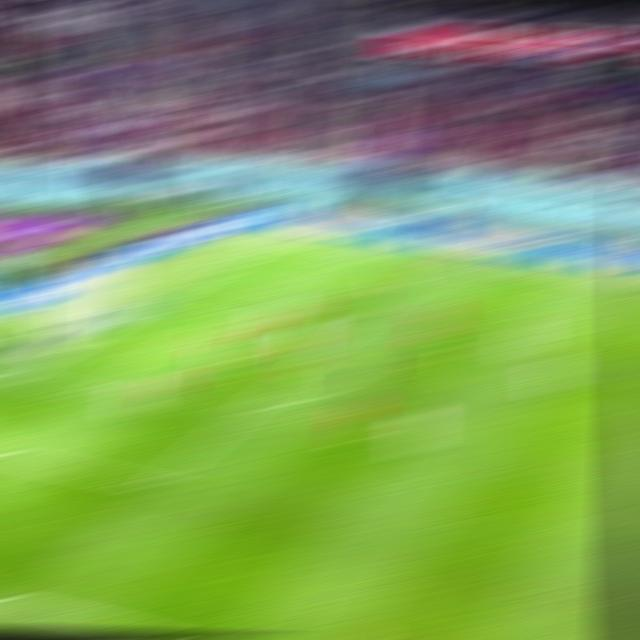bigarea_bottom_inner: (133, 473, 175, 493)
bigarea_top_inner: (367, 296, 405, 311)
bigarea_top_outter: (194, 270, 232, 282)
bottom_arc_area_intersection: (230, 399, 270, 416)
corner: (257, 240, 294, 250)
smallarea_bottom_inner: (68, 379, 109, 402)
smallarea_bottom_outter: (0, 370, 38, 384)
smallarea_top_inner: (190, 312, 228, 326)
smallarea_top_outter: (133, 300, 171, 316)
top_arc_area_intersection: (312, 338, 351, 352)
